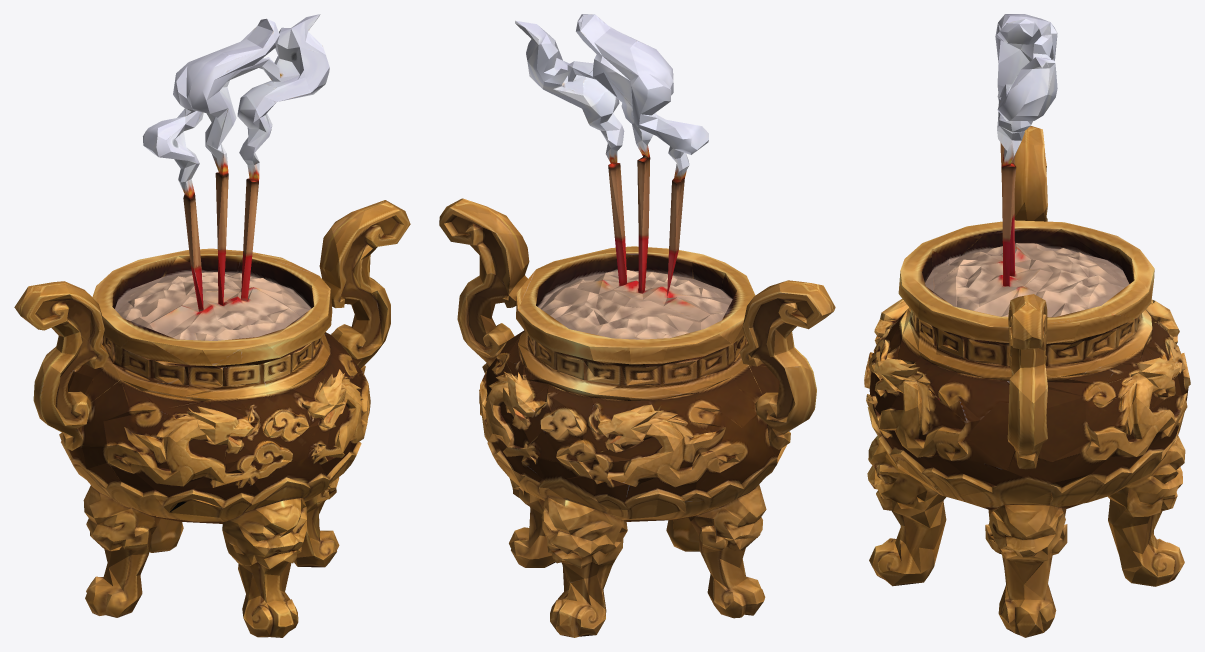
The model's file is incense.glb.
The picture shows the model from 3 angles, left to right: view 1: azimuth 30°, elevation 25°; view 2: azimuth 150°, elevation 25°; view 3: azimuth 270°, elevation 25°; orthographic projection. The views are drawn at different scales.
Parts seen in each view (by area): view 1: output_unwrapped; view 2: output_unwrapped; view 3: output_unwrapped.
Part boxes in pixels (left/top/right/bottom): output_unwrapped: left=14, top=14, right=410, bottom=637; output_unwrapped: left=439, top=14, right=835, bottom=637; output_unwrapped: left=864, top=14, right=1190, bottom=637.
Size of the model in its own units: 1.39 by 1.9 by 0.9619.
Materials: 1 (1 with a texture image).
